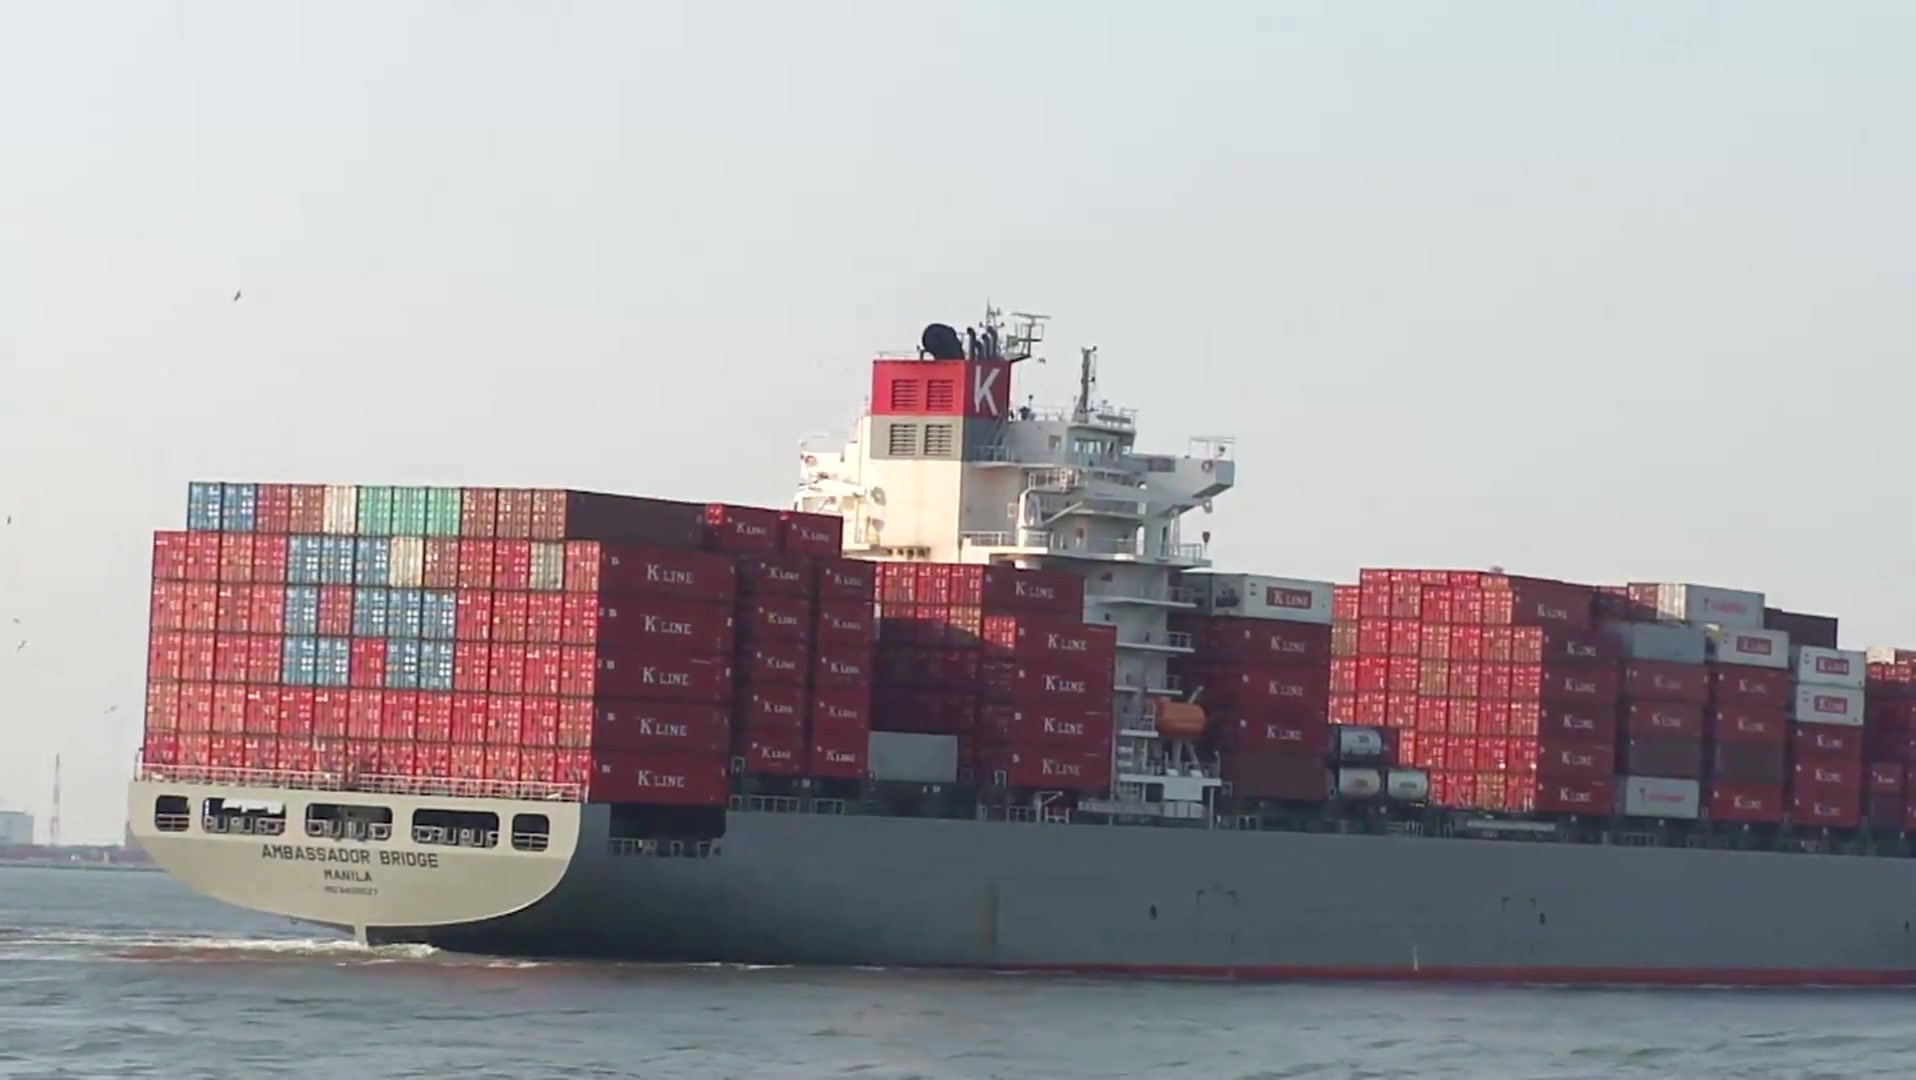boat: (126, 304, 1916, 994)
